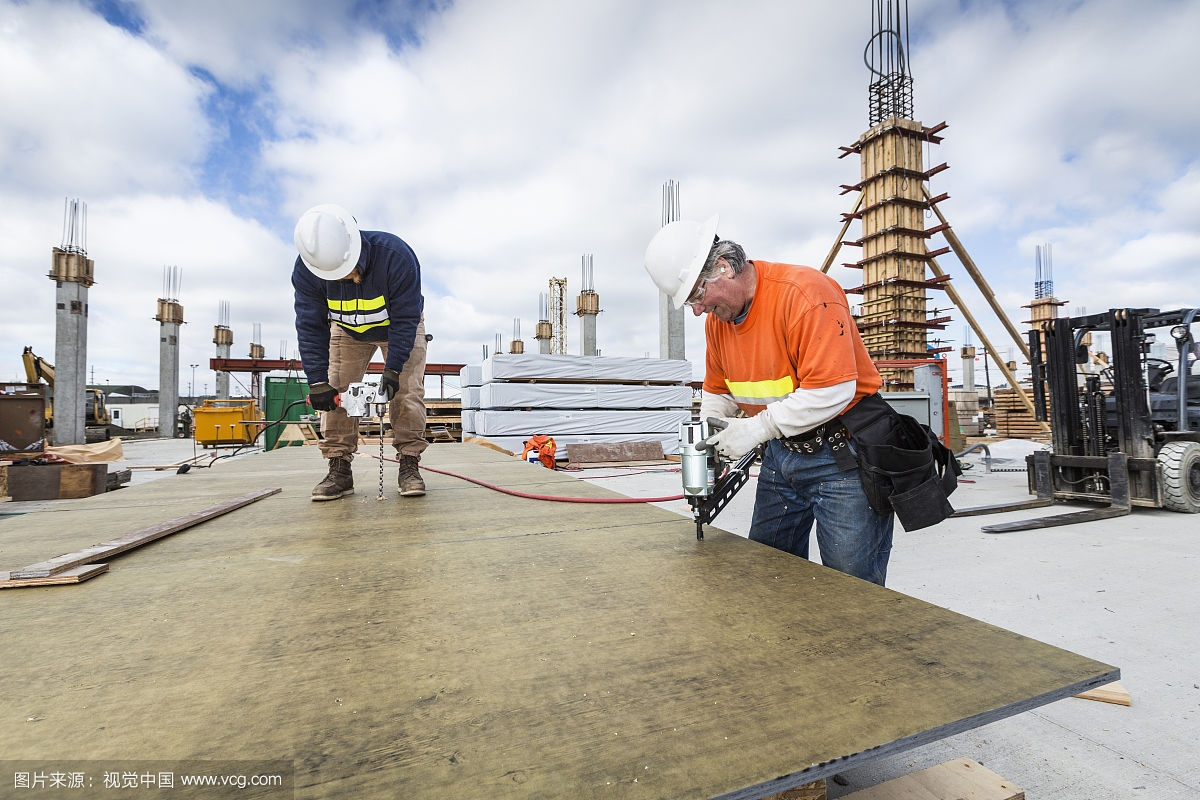white: (634, 212, 751, 325), (291, 206, 365, 287)
